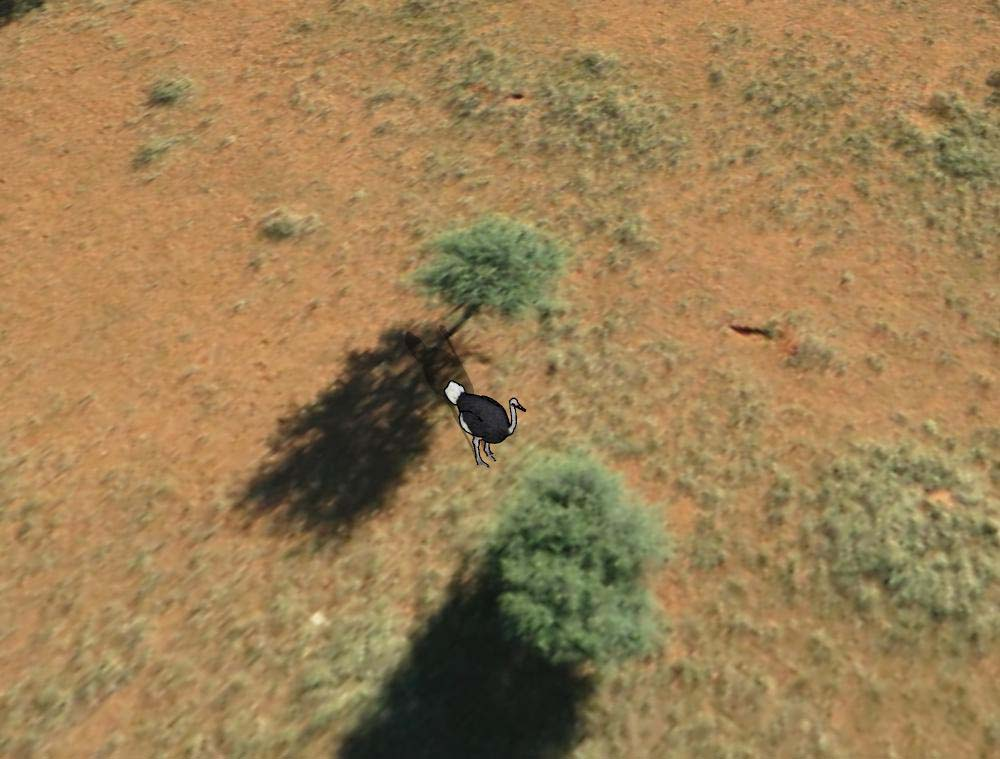springbok: (440, 380, 530, 470)
